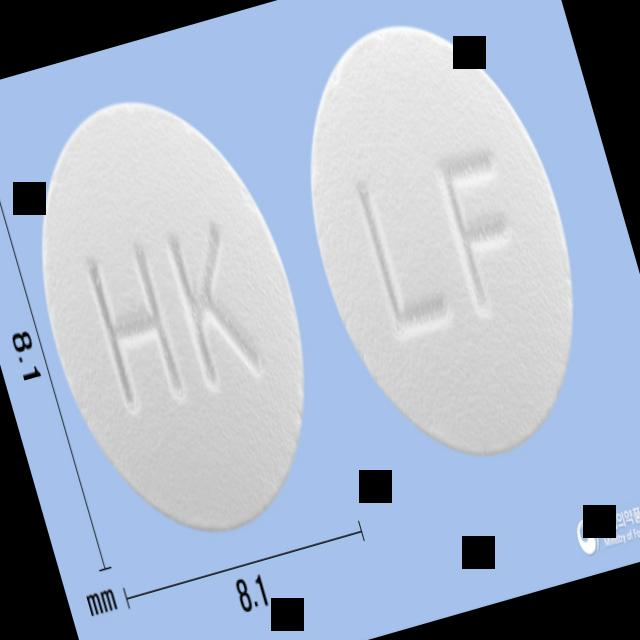Levotacin: (0, 66, 351, 559), (264, 0, 618, 482)
